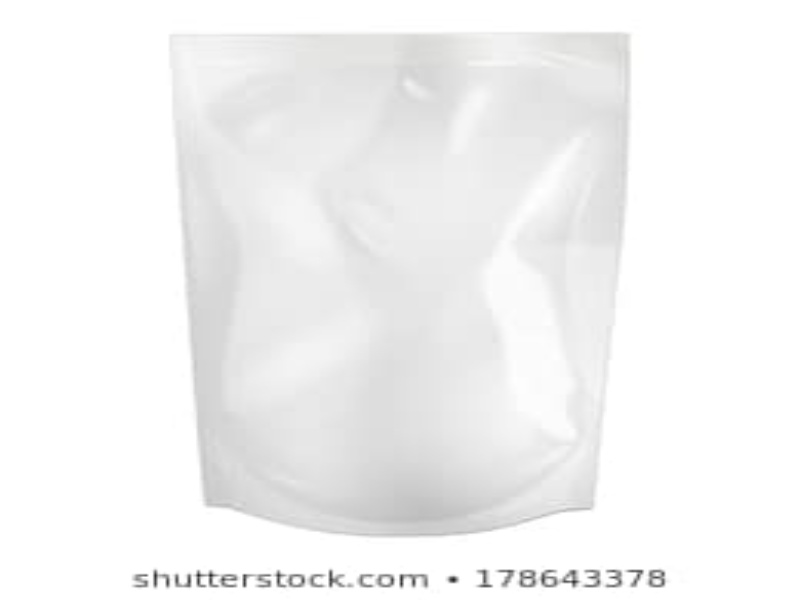plastic-bag: (162, 28, 633, 539)
